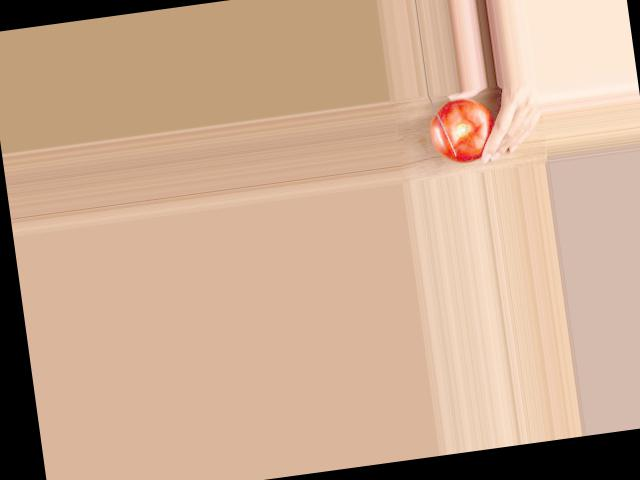tomato: (427, 95, 498, 166)
